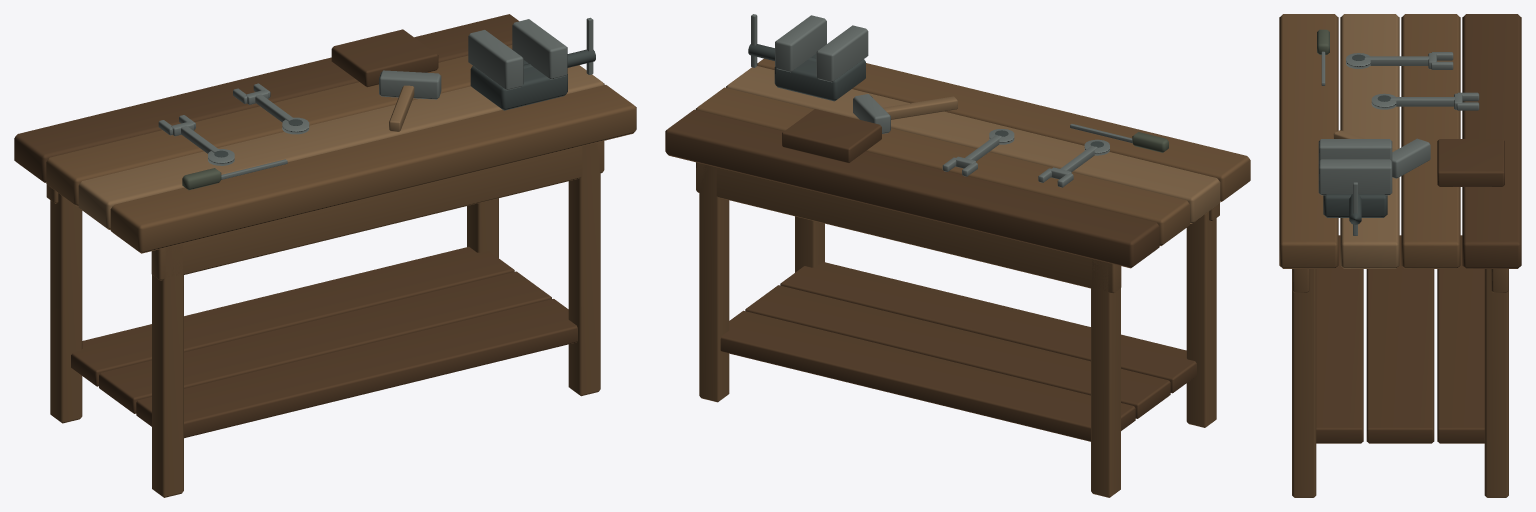
File: Workbench01.fbx
The picture shows the model from 3 angles, left to right: view 1: azimuth 30°, elevation 25°; view 2: azimuth 150°, elevation 25°; view 3: azimuth 270°, elevation 25°; orthographic projection. The views are drawn at different scales.
Visible parts, largest first — view 1: Workbench01.001; view 2: Workbench01.001; view 3: Workbench01.001.
Boxes of the visible parts, box(x1,y1,x2,y2) form: Workbench01.001: box(14, 14, 636, 497); Workbench01.001: box(665, 14, 1250, 497); Workbench01.001: box(1279, 14, 1521, 497).
Bounding box in the file's own units: 170 × 112 × 75.4.
